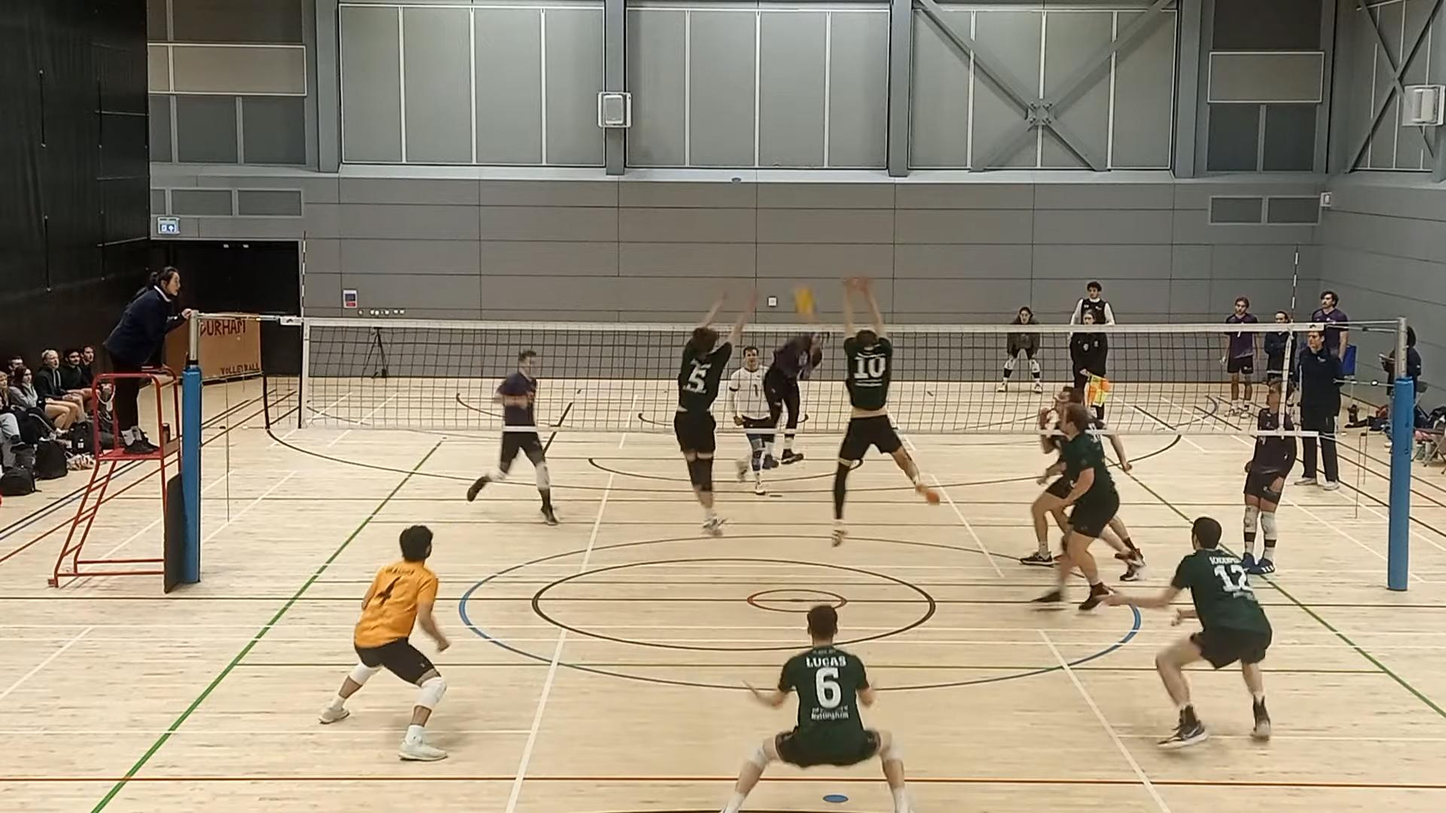attacco: (756, 277, 826, 484)
muro: (828, 274, 941, 544), (676, 288, 767, 542)
